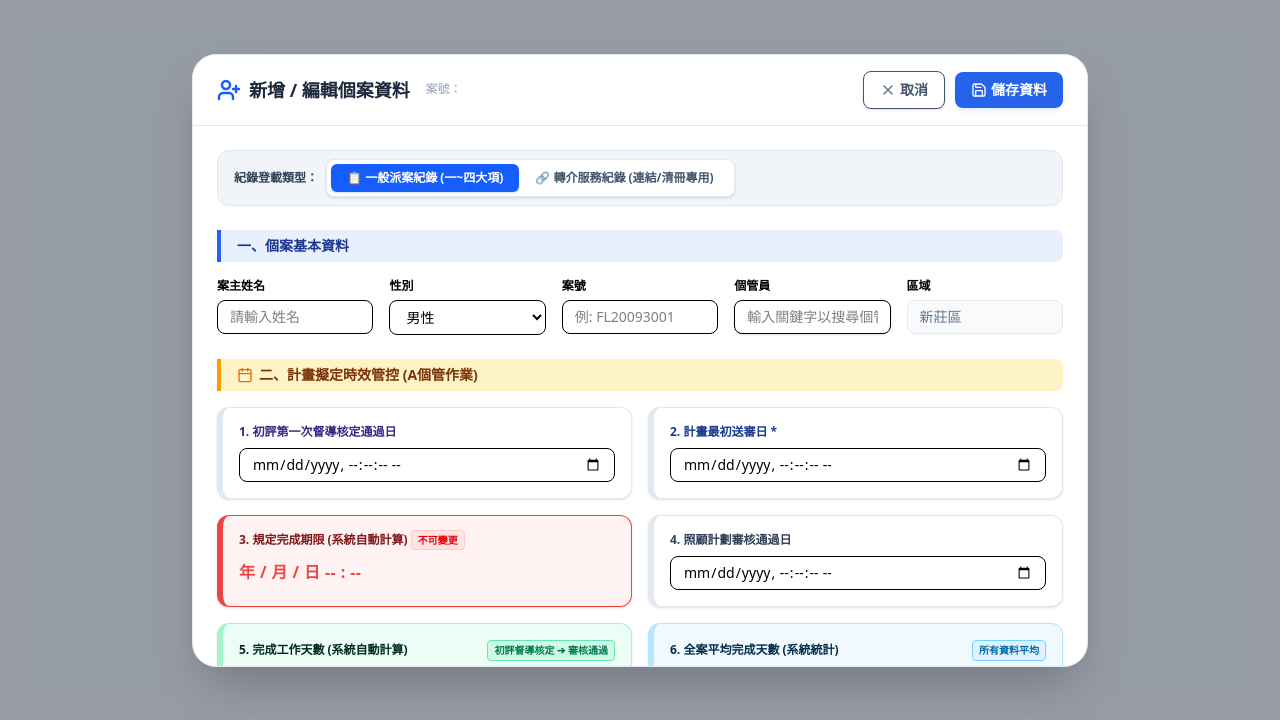
Scenario: CaseForm Integration Test › should allow aUnitNotifyDate on the same day as approvalDate/submitDate, and block only if earlier
In the field labelled "2. 計畫最初送審日 *": coordinates (858, 464) [670,448,1046,482], type "2026-07-06T10:04:33"
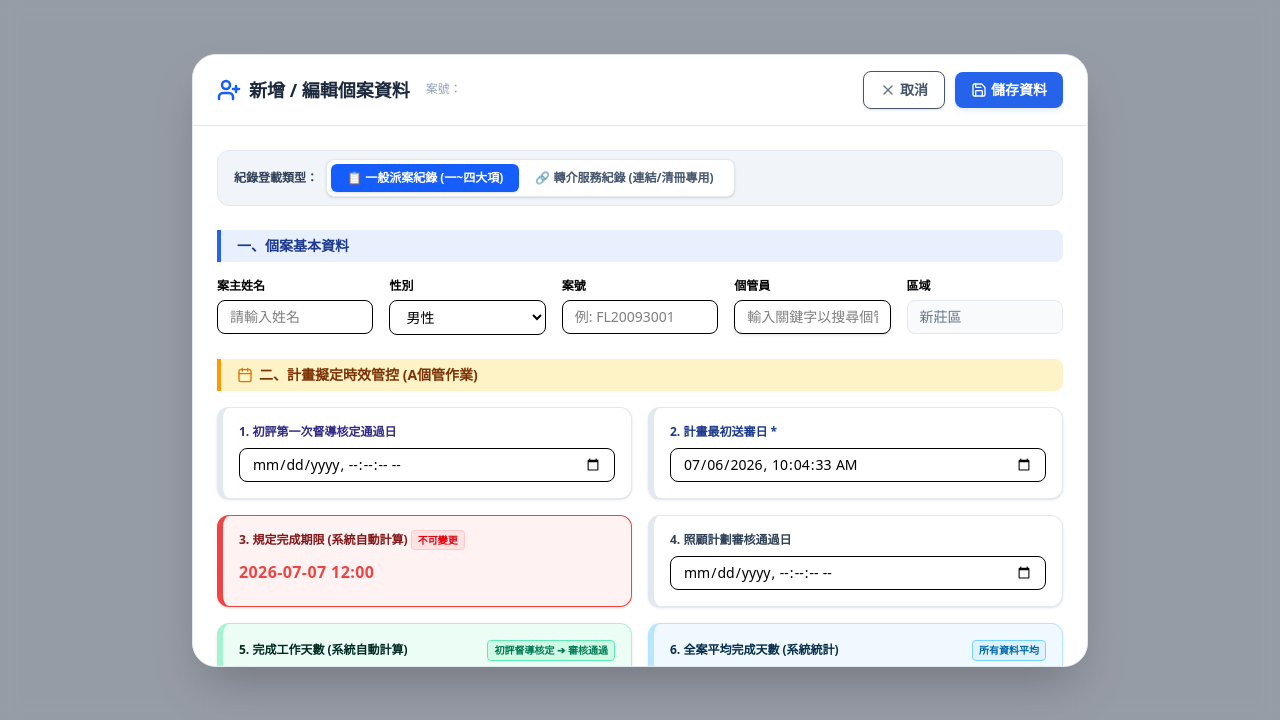
In the field labelled "4. 照顧計劃審核通過日": coordinates (858, 572) [670,556,1046,590], type "2026-07-06T11:10:15"
(page scrolled)
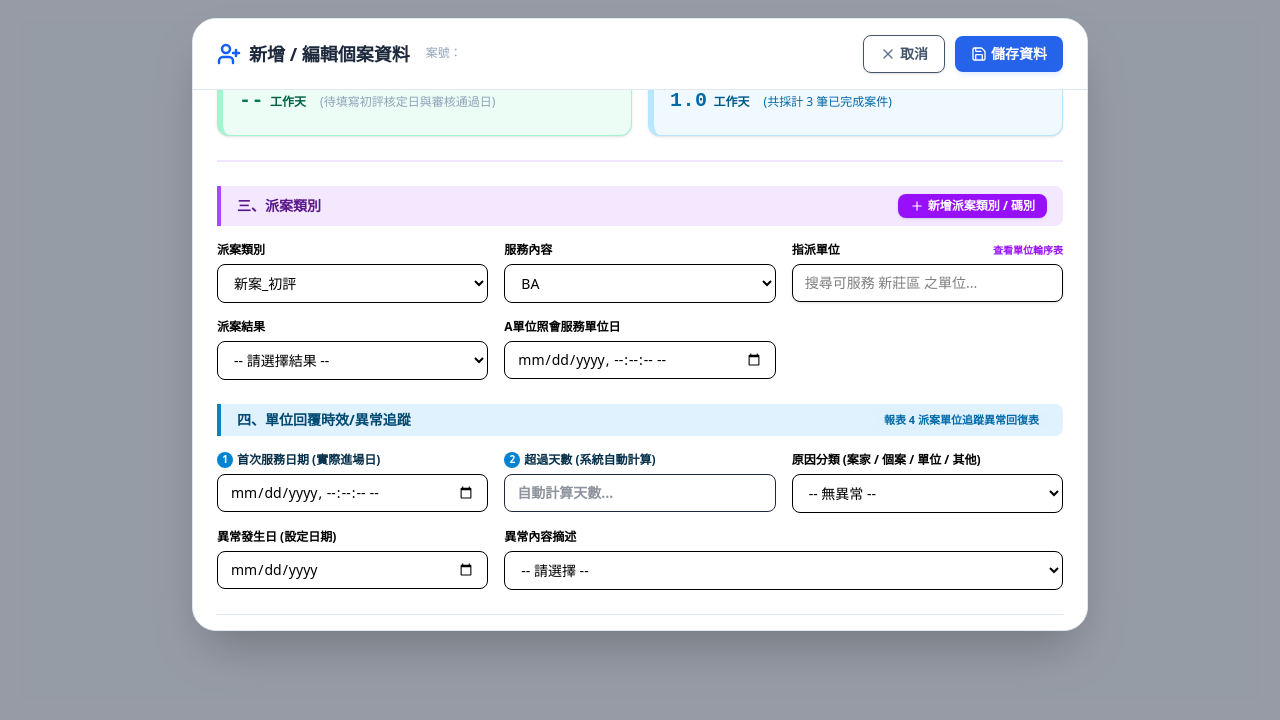
In the field labelled "A單位照會服務單位日": coordinates (640, 360) [504,340,776,378], type "2026-07-06T10:00"
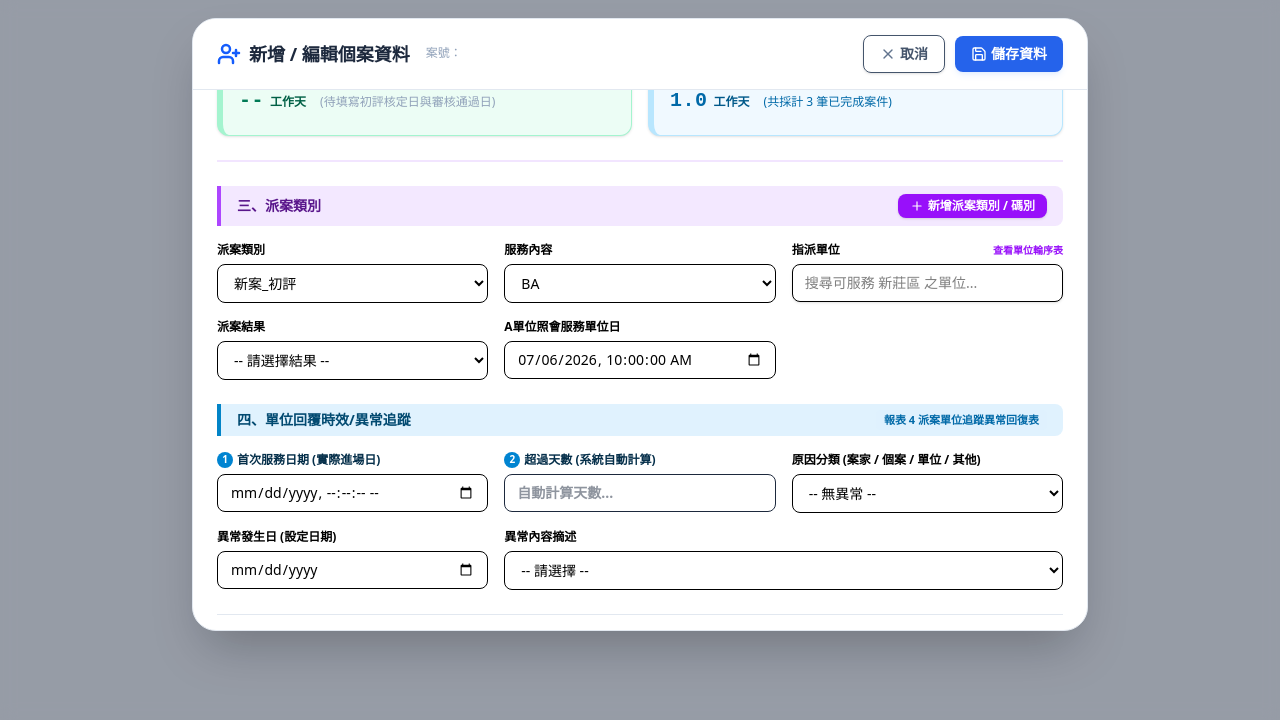
Expected: the text "照會日不可早於審核通過日" is not shown
Replace the text in the field labelled "A單位照會服務單位日" with "2026-07-05T10:00": coordinates (640, 360) [504,340,776,378]
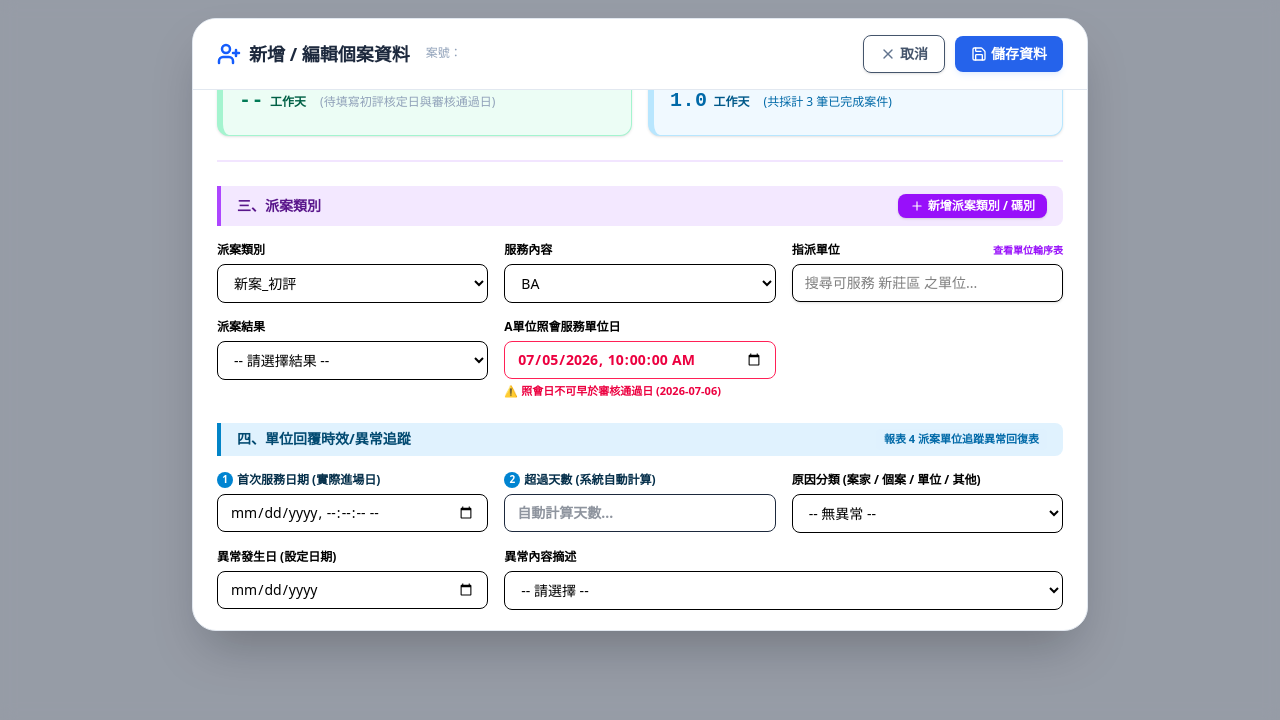
Expected: the text "⚠️ 照會日不可早於審核通過日 (2026-07-06)" is shown, [504,382,721,398]
